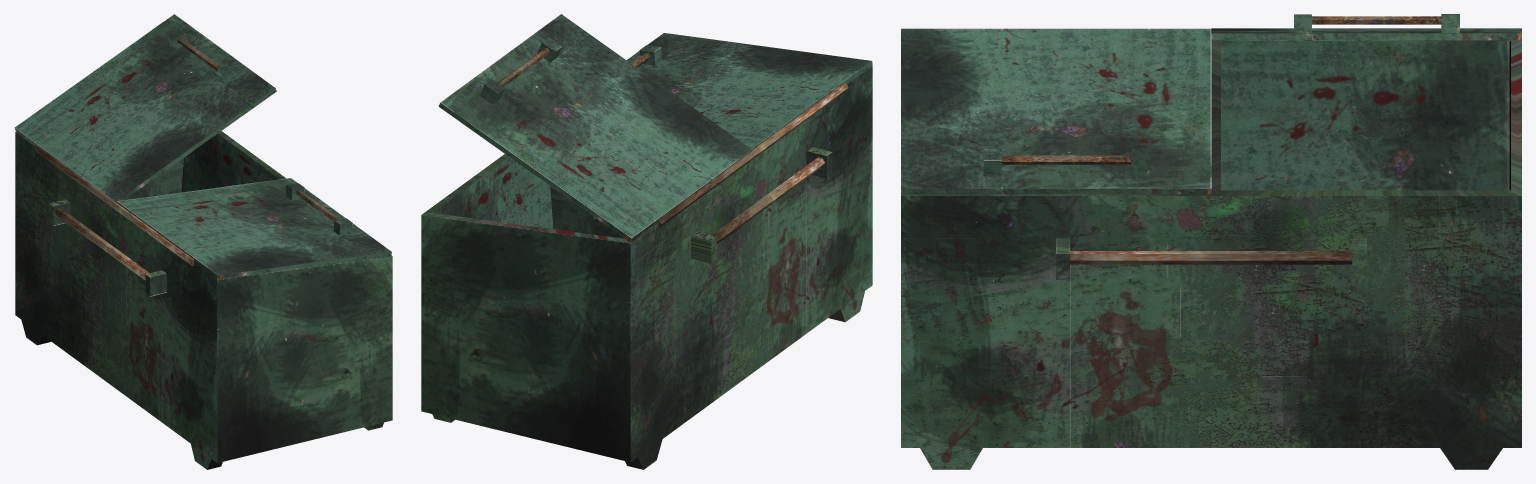
The model's file is trashDumpster2.fbx.
3 views of the same model, side by side, from view 1: azimuth 30°, elevation 25°; view 2: azimuth 150°, elevation 25°; view 3: azimuth 270°, elevation 25° (orthographic). The views are drawn at different scales.
Parts seen in each view (by area): view 1: dumsterModel; view 2: dumsterModel; view 3: dumsterModel.
Boxes of the visible parts, x1,y1,x2,y2 form: dumsterModel: (14,14,392,469); dumsterModel: (421,14,872,469); dumsterModel: (901,14,1521,469).
Bounding box in the file's own units: 2.43 × 3.06 × 4.
1 material, 1 textured.
